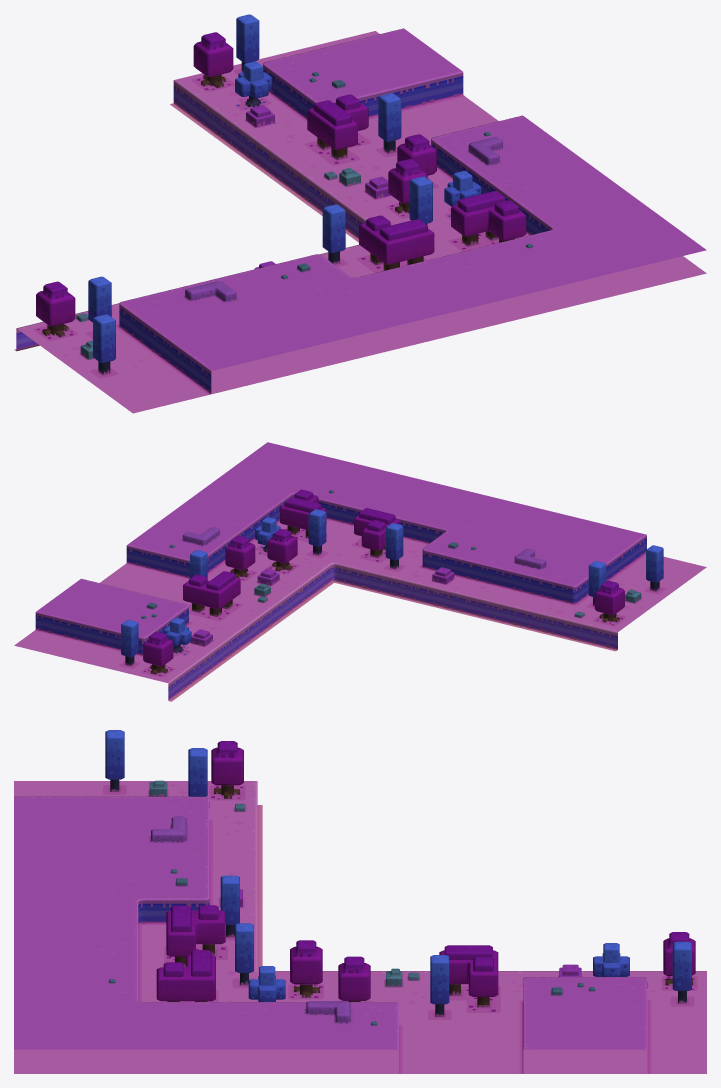
File: C_forest2_out_LU.fbx
The picture shows the model from 3 angles, top to bottom: view 1: azimuth 30°, elevation 25°; view 2: azimuth 150°, elevation 25°; view 3: azimuth 270°, elevation 25°; orthographic projection. The views are drawn at different scales.
Parts seen in each view (by area): view 1: C_forest2_out_LU; view 2: C_forest2_out_LU; view 3: C_forest2_out_LU.
Boxes of the visible parts, left/top/right/bottom form: C_forest2_out_LU: left=14, top=14, right=706, bottom=413; C_forest2_out_LU: left=14, top=442, right=706, bottom=701; C_forest2_out_LU: left=14, top=730, right=706, bottom=1073.
Size of the model in its own units: 117 by 15.31 by 117.
